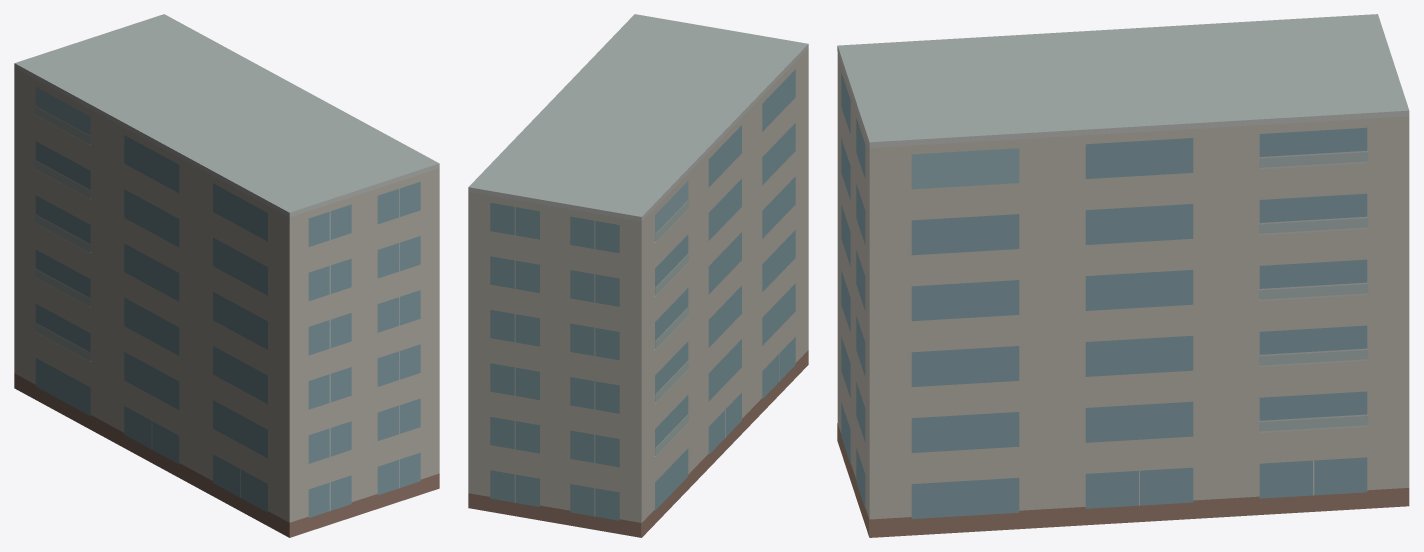
The model's file is survey-upis-33033265.glb.
The picture shows the model from 3 angles, left to right: view 1: azimuth 30°, elevation 25°; view 2: azimuth 150°, elevation 25°; view 3: azimuth 270°, elevation 25°; orthographic projection. The views are drawn at different scales.
Visible parts, largest first — view 1: survey-upis-33033265.tmp; view 2: survey-upis-33033265.tmp; view 3: survey-upis-33033265.tmp.
Boxes of the visible parts, <box> form: survey-upis-33033265.tmp: <box>14,14,439,537</box>; survey-upis-33033265.tmp: <box>468,14,808,537</box>; survey-upis-33033265.tmp: <box>837,14,1409,537</box>.
Bounding box in the file's own units: 11.84 × 17 × 22.28.
